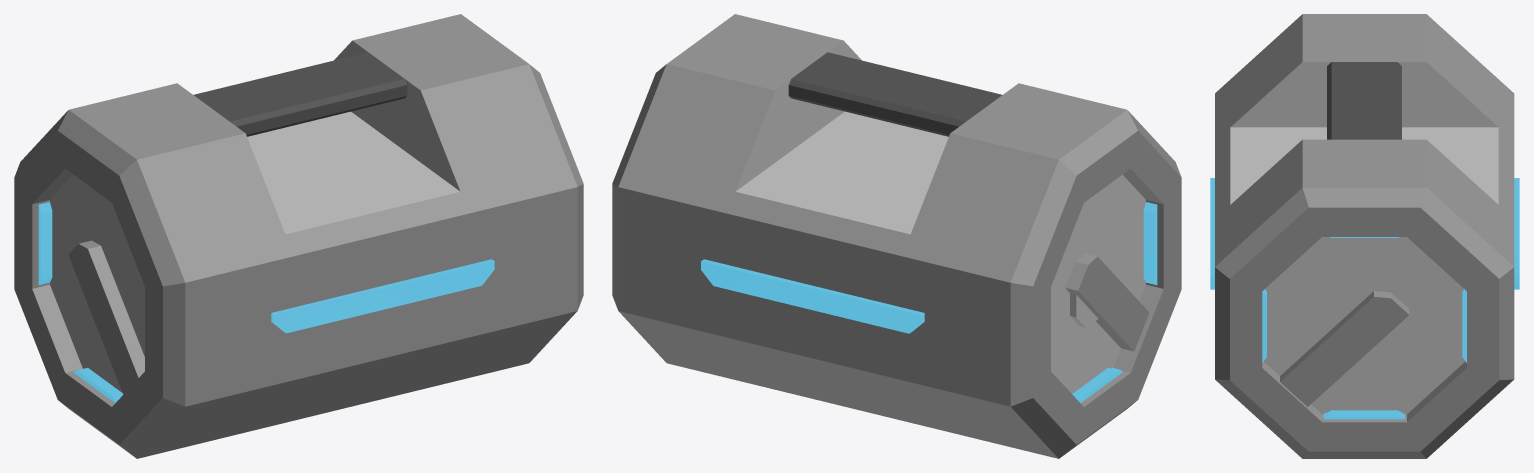
Rendered from SM_GAT01_Battery.fbx.
3 views of the same model, side by side, from view 1: azimuth 30°, elevation 25°; view 2: azimuth 150°, elevation 25°; view 3: azimuth 270°, elevation 25° (orthographic). The views are drawn at different scales.
Parts seen in each view (by area): view 1: SM_GAT01_Battery; view 2: SM_GAT01_Battery; view 3: SM_GAT01_Battery.
Boxes of the visible parts, left/top/right/bottom form: SM_GAT01_Battery: left=14, top=14, right=583, bottom=458; SM_GAT01_Battery: left=612, top=14, right=1181, bottom=458; SM_GAT01_Battery: left=1210, top=14, right=1519, bottom=458.
Size of the model in its own units: 22.84 by 15.52 by 16.05.
